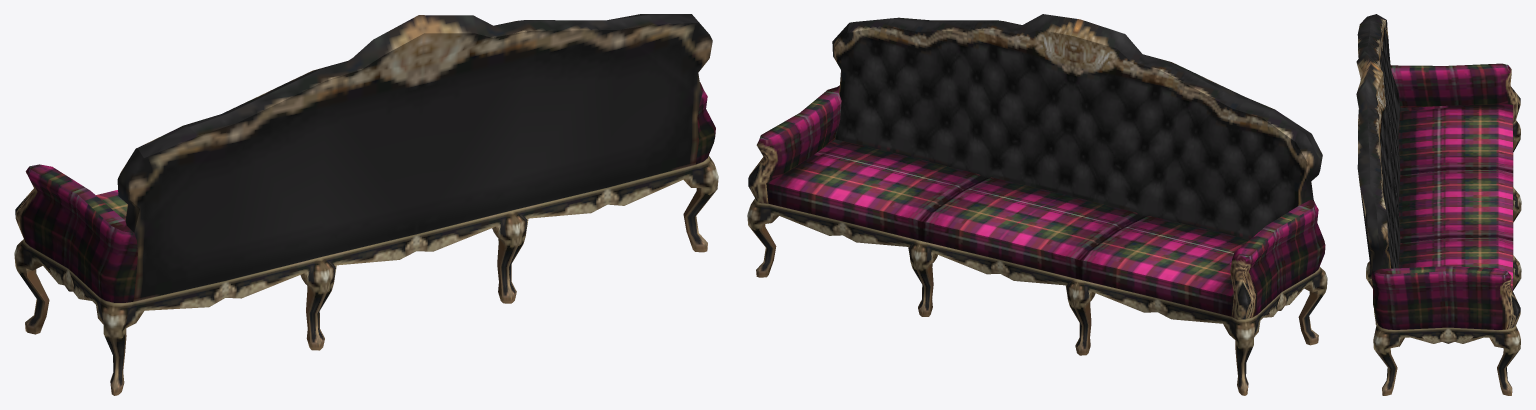
The model's file is furni_0200310_01.FBX.
3 views of the same model, side by side, from view 1: azimuth 30°, elevation 25°; view 2: azimuth 150°, elevation 25°; view 3: azimuth 270°, elevation 25° (orthographic). The views are drawn at different scales.
Visible parts, largest first — view 1: furni_0200310_01; view 2: furni_0200310_01; view 3: furni_0200310_01.
Boxes of the visible parts, x1,y1,x2,y2 form: furni_0200310_01: (14, 14, 718, 395); furni_0200310_01: (747, 14, 1327, 395); furni_0200310_01: (1356, 14, 1521, 395).
Size of the model in its own units: 237 by 116 by 75.87.
